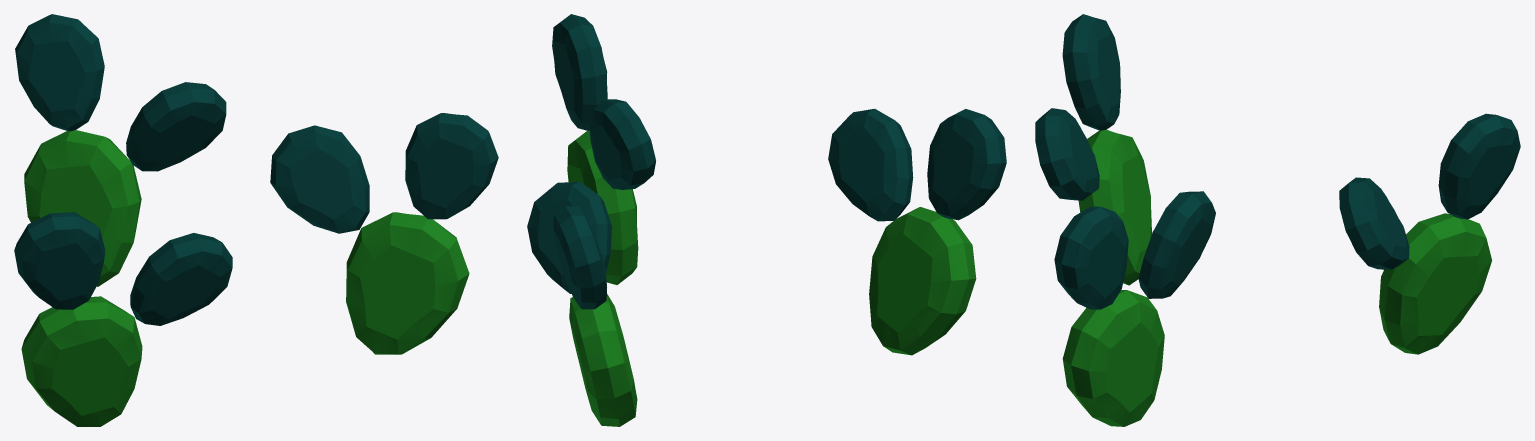
The model's file is SM__Prickly__Pear__Growth__1.fbx.
3 views of the same model, side by side, from view 1: azimuth 30°, elevation 25°; view 2: azimuth 150°, elevation 25°; view 3: azimuth 270°, elevation 25° (orthographic).
Visible parts, largest first — view 1: normal12; view 2: normal12; view 3: normal12.
Boxes of the visible parts, x1=… form: normal12: x1=14, y1=14, x2=498, y2=426; normal12: x1=527, y1=14, x2=1006, y2=426; normal12: x1=1035, y1=14, x2=1520, y2=426.
Bounding box in the file's own units: 1.02 × 0.5012 × 0.9258.
